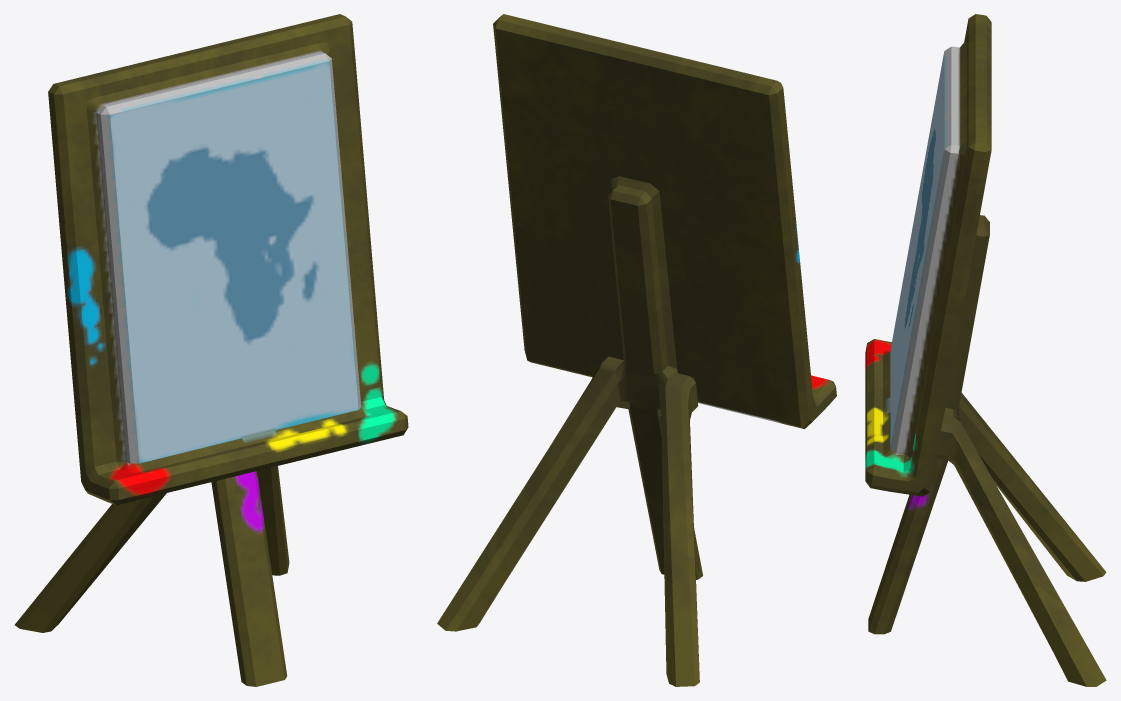
Rendered from painting easle.fbx.
The picture shows the model from 3 angles, left to right: view 1: azimuth 30°, elevation 25°; view 2: azimuth 150°, elevation 25°; view 3: azimuth 270°, elevation 25°; orthographic projection. The views are drawn at different scales.
Visible parts, largest first — view 1: polySurface386; view 2: polySurface386; view 3: polySurface386.
Boxes of the visible parts, bbox=[...] form: polySurface386: bbox=[15, 14, 408, 686]; polySurface386: bbox=[437, 14, 836, 686]; polySurface386: bbox=[865, 14, 1106, 686].
Size of the model in its own units: 0.7278 by 1.38 by 0.5558.
Materials: 1 (1 with a texture image).
